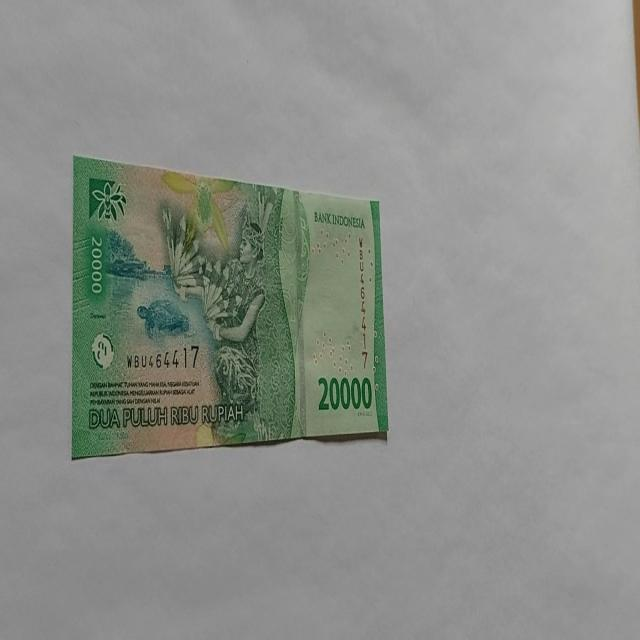dua puluh ribu rupiah: (70, 153, 390, 460)
